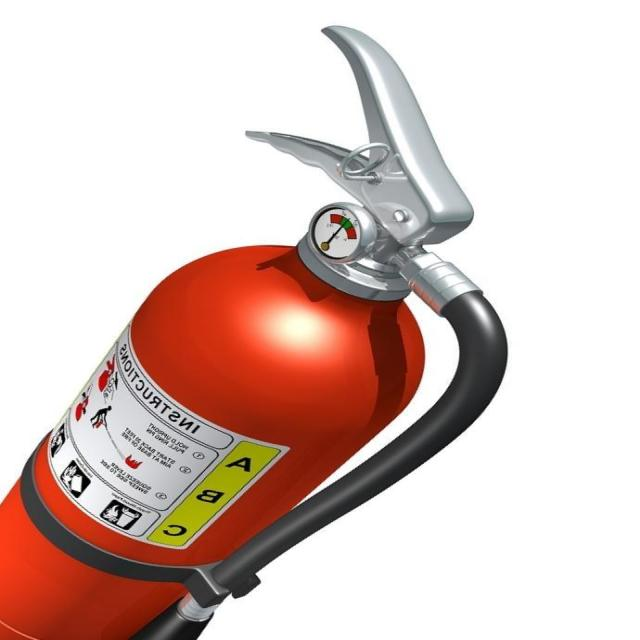fire_extinguisher: (0, 21, 513, 640)
